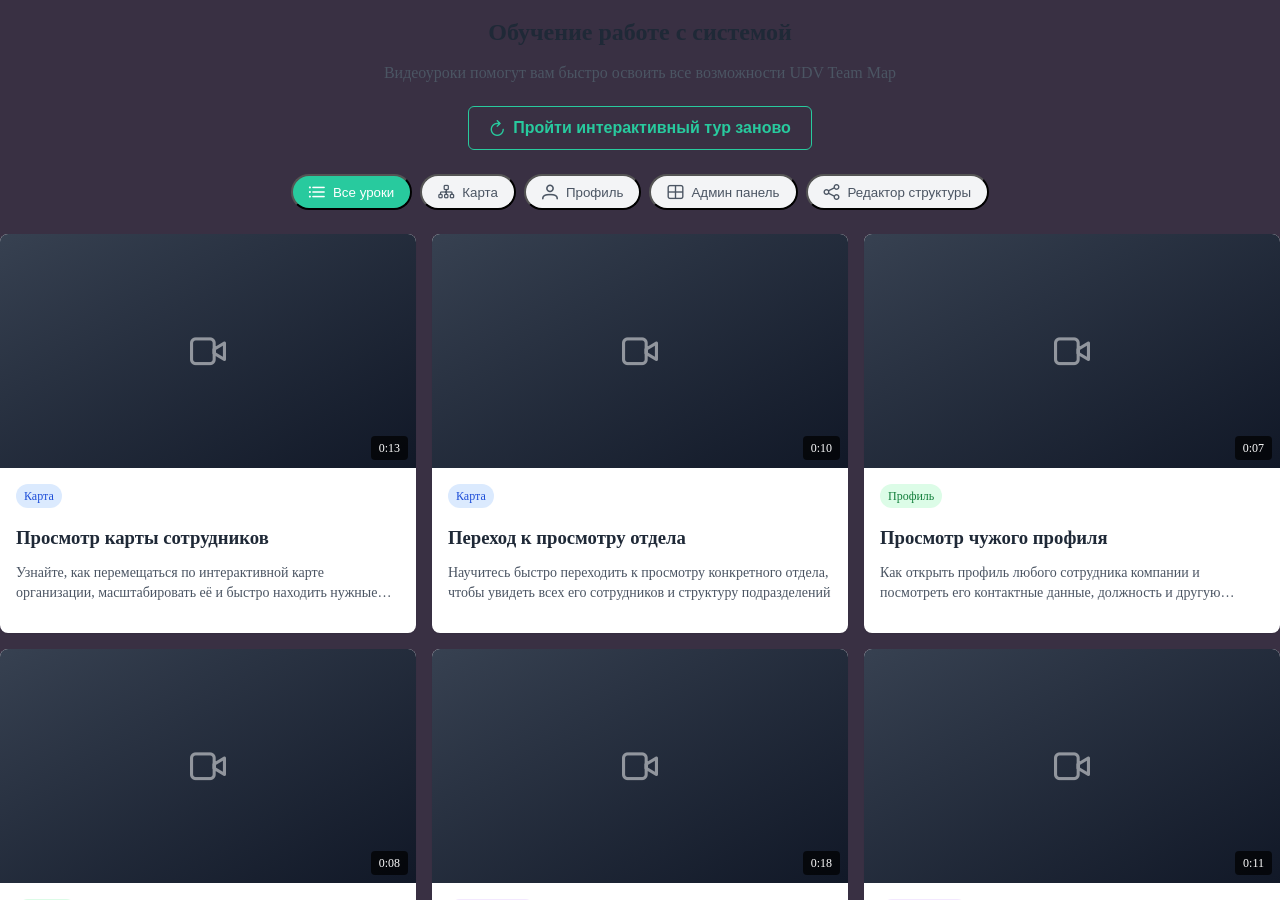
Test: AboutPage › TrainingContent › filters lessons by category
The width and height of the screenshot is (1280, 900).
// Click Admin panel category button
Click the button "Админ панель" at (724, 192), box [650,174,798,210]
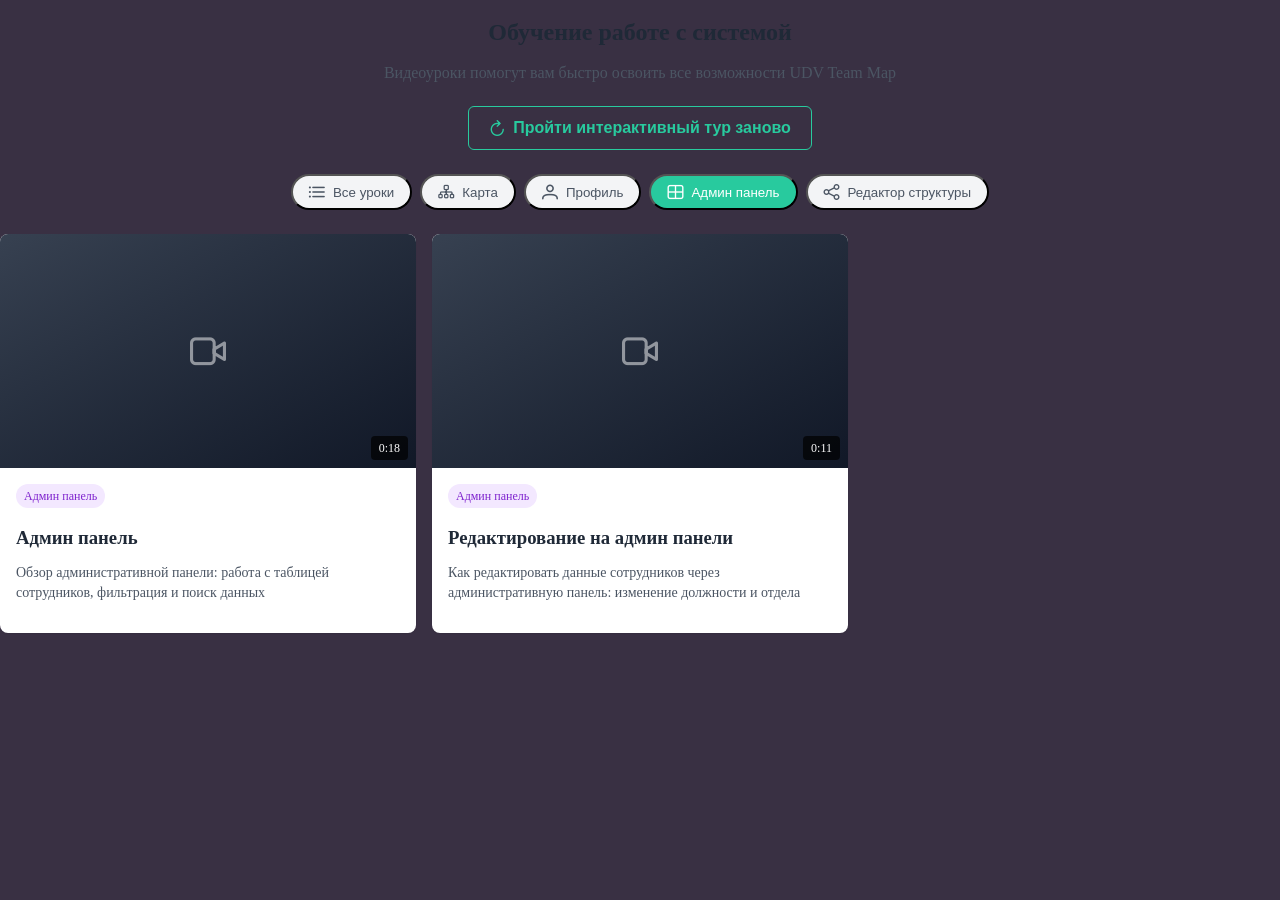
Expected: the heading "Редактирование на админ панели" is shown, [448,527,733,548]
Expected: the heading "Просмотр карты сотрудников" is gone
